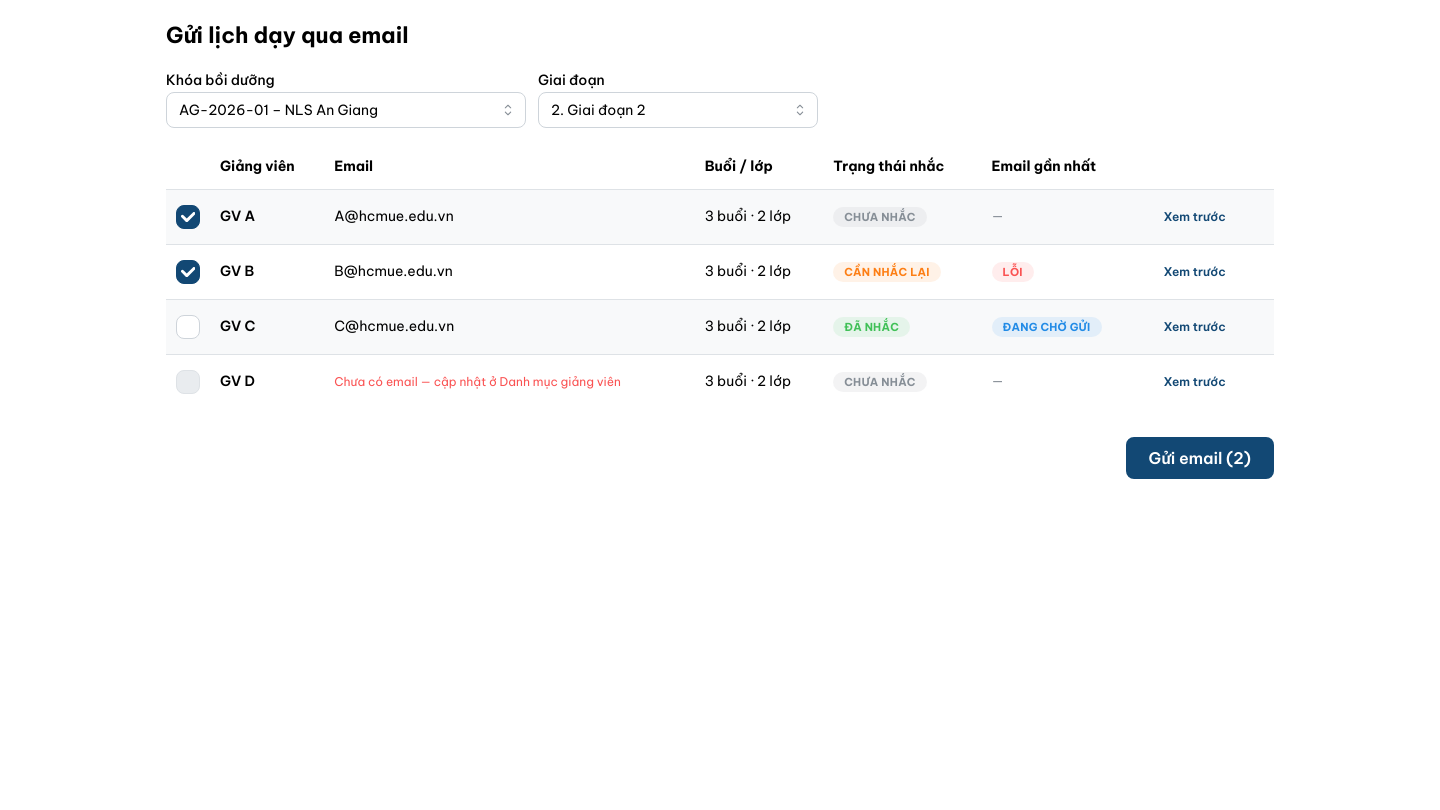
Scenario: Gửi lịch dạy (ADR 0009) › Gửi: xác nhận → POST đúng danh sách → thông báo có số bỏ qua → tải lại bảng
Expected: the text "GV A" is shown, [220, 207, 255, 225]
Click the button "Gửi email (2)".
click(1200, 458)  # box [1126, 437, 1274, 479]
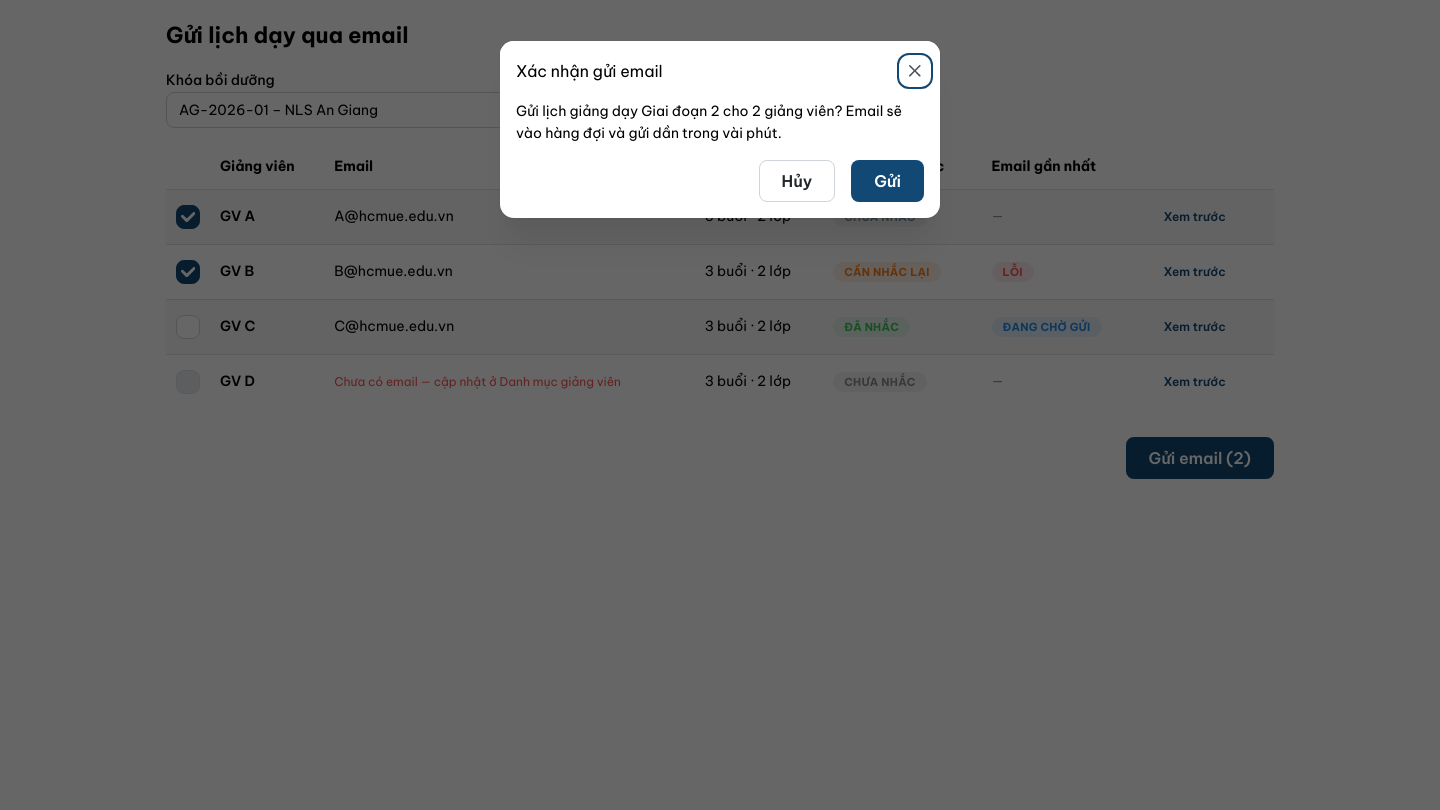
Expected: the text "cho 2 giảng viên" is shown, [516, 100, 924, 144]
Click the button "Gửi".
click(888, 181)  # box [851, 160, 924, 202]
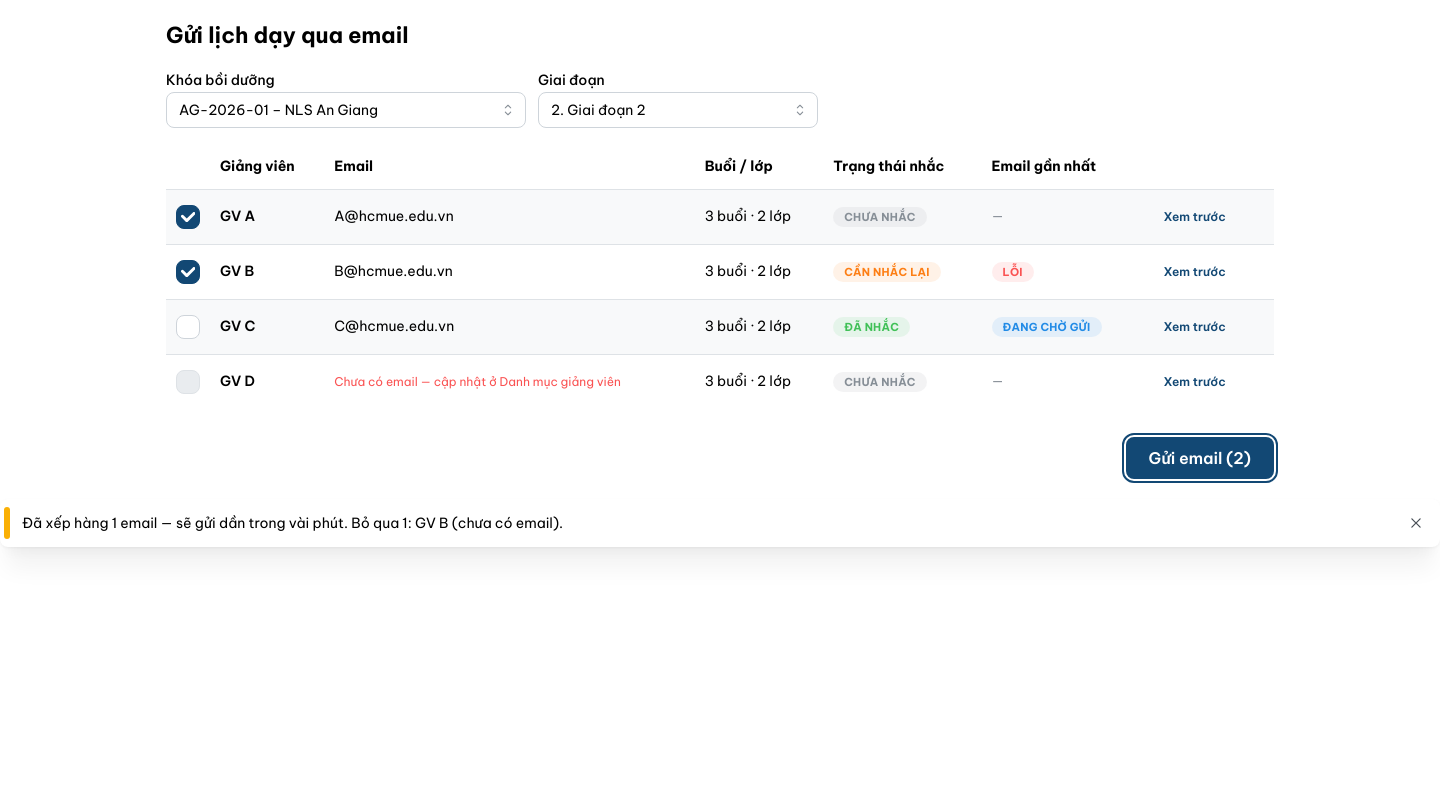
Expected: the text "Bỏ qua 1" is shown, [22, 514, 563, 532]
